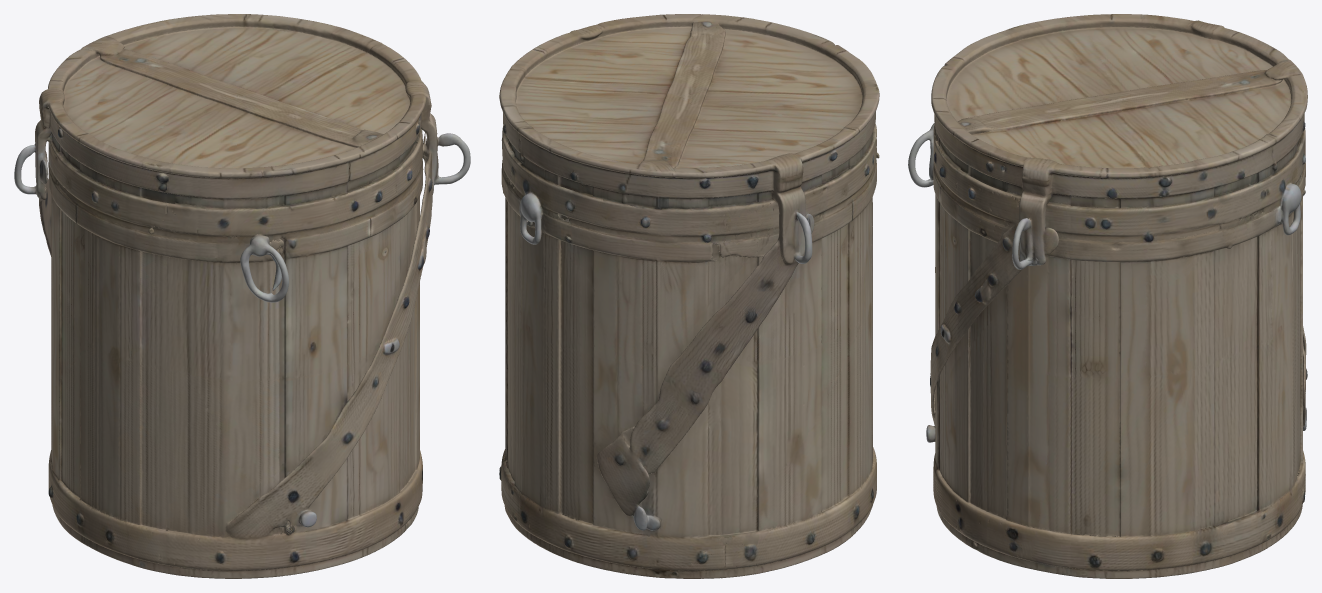
File: detailed_realistic_model_sortinghat_04.glb
3 views of the same model, side by side, from view 1: azimuth 30°, elevation 25°; view 2: azimuth 150°, elevation 25°; view 3: azimuth 270°, elevation 25° (orthographic).
Visible parts, largest first — view 1: tripo_node_21e915f2-5f66-45a5-9c81-b8385de8392c; view 2: tripo_node_21e915f2-5f66-45a5-9c81-b8385de8392c; view 3: tripo_node_21e915f2-5f66-45a5-9c81-b8385de8392c.
Boxes of the visible parts, x1,y1,x2,y2 form: tripo_node_21e915f2-5f66-45a5-9c81-b8385de8392c: (14, 14, 470, 578); tripo_node_21e915f2-5f66-45a5-9c81-b8385de8392c: (499, 14, 879, 578); tripo_node_21e915f2-5f66-45a5-9c81-b8385de8392c: (908, 14, 1307, 578).
Bounding box in the file's own units: 0.9049 × 1 × 0.8841.
1 material, 1 textured.
